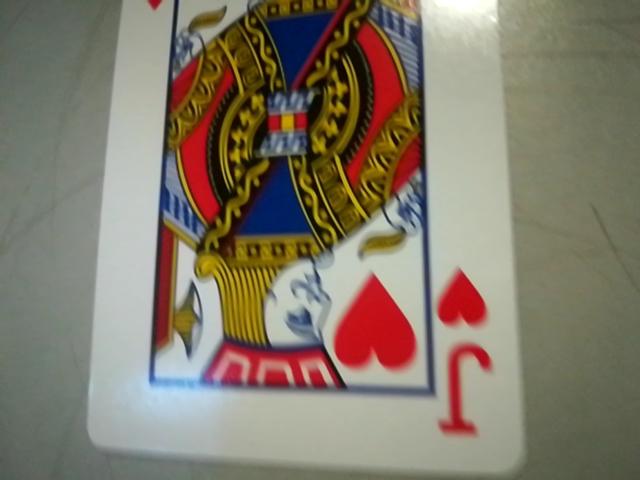hx j: (423, 259, 513, 454)
